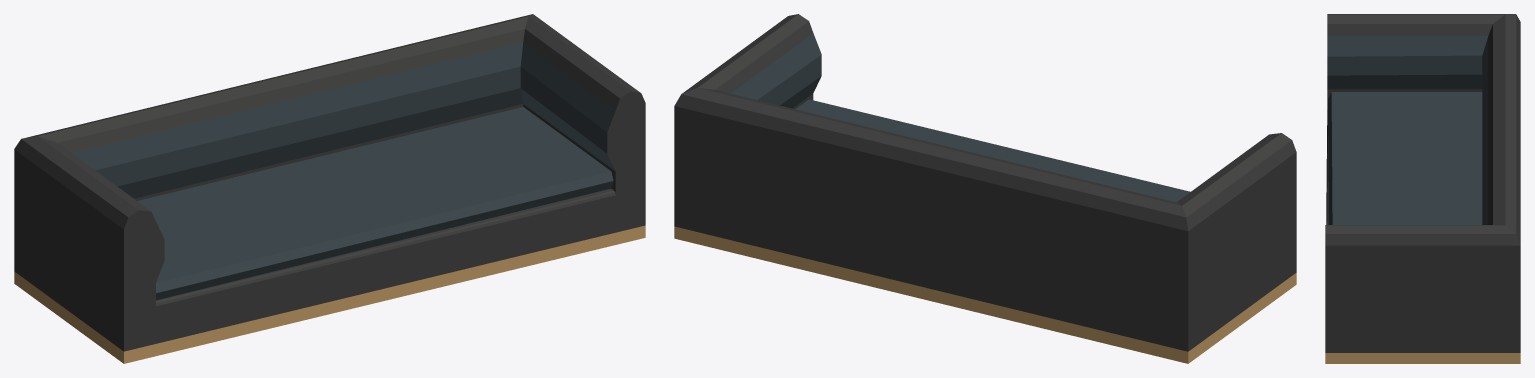
File: CouchV1.fbx
3 views of the same model, side by side, from view 1: azimuth 30°, elevation 25°; view 2: azimuth 150°, elevation 25°; view 3: azimuth 270°, elevation 25° (orthographic). The views are drawn at different scales.
Parts seen in each view (by area): view 1: CouchV1; view 2: CouchV1; view 3: CouchV1.
Part boxes in pixels (x1,y1,x2,y2): CouchV1: (14,14,645,363); CouchV1: (674,14,1296,363); CouchV1: (1325,14,1520,363).
Size of the model in its own units: 270 by 74.27 by 99.45.
